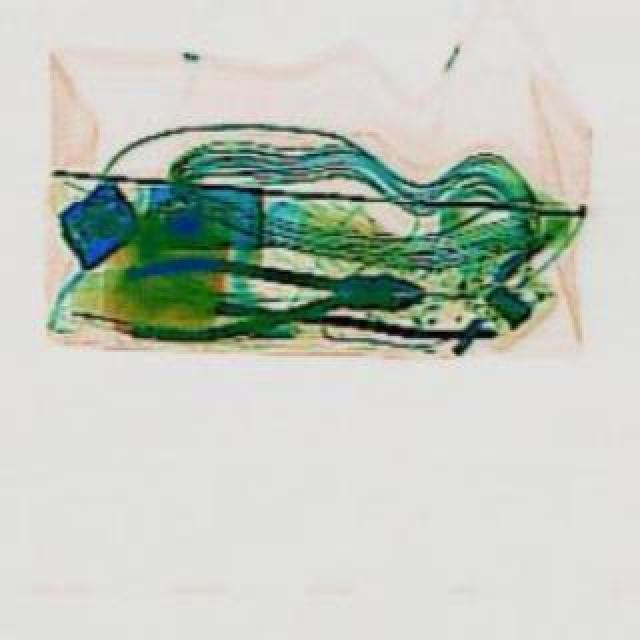wrench: (118, 248, 422, 338)
